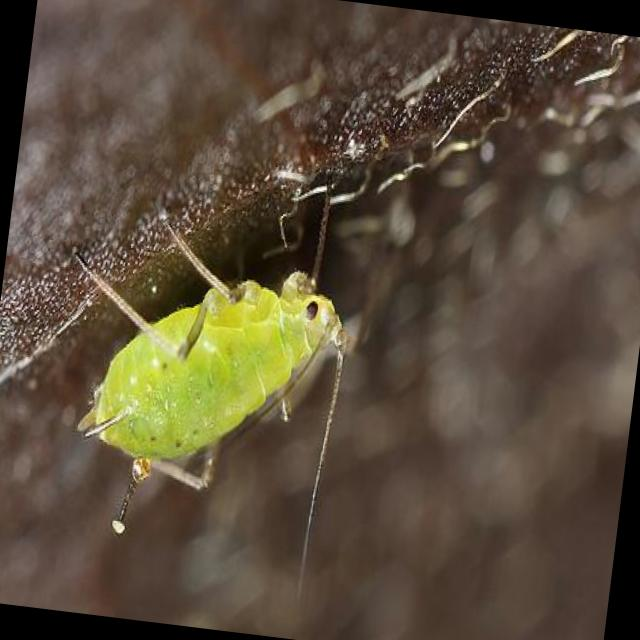Aphid: (32, 167, 385, 549)
